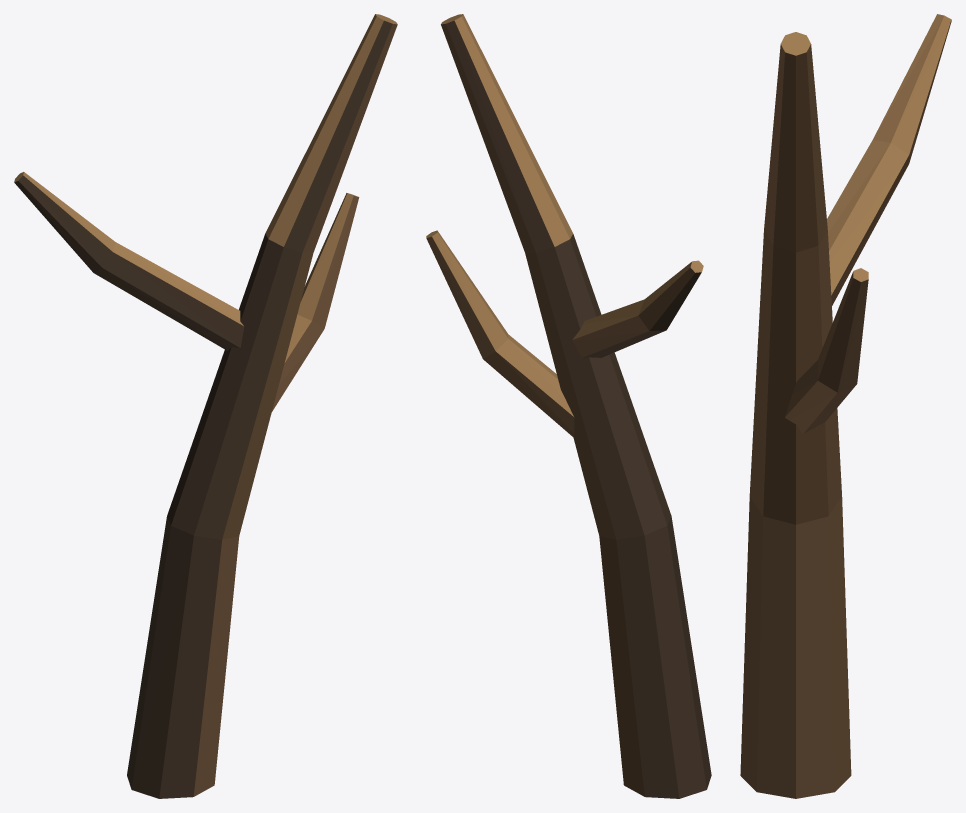
File: TW_TREE_DEAD_LEAN_A_LOD0.glb
The picture shows the model from 3 angles, left to right: view 1: azimuth 30°, elevation 25°; view 2: azimuth 150°, elevation 25°; view 3: azimuth 270°, elevation 25°; orthographic projection. The views are drawn at different scales.
Parts seen in each view (by area): view 1: TW_TREE_DEAD_LEAN_A_LOD0; view 2: TW_TREE_DEAD_LEAN_A_LOD0; view 3: TW_TREE_DEAD_LEAN_A_LOD0.
Part boxes in pixels (box(x1,y1,x2,y2)): TW_TREE_DEAD_LEAN_A_LOD0: box(14, 14, 397, 798); TW_TREE_DEAD_LEAN_A_LOD0: box(426, 14, 711, 798); TW_TREE_DEAD_LEAN_A_LOD0: box(740, 14, 951, 798).
Bounding box in the file's own units: 1.26 × 2.69 × 0.5938.
1 material, 1 textured.
